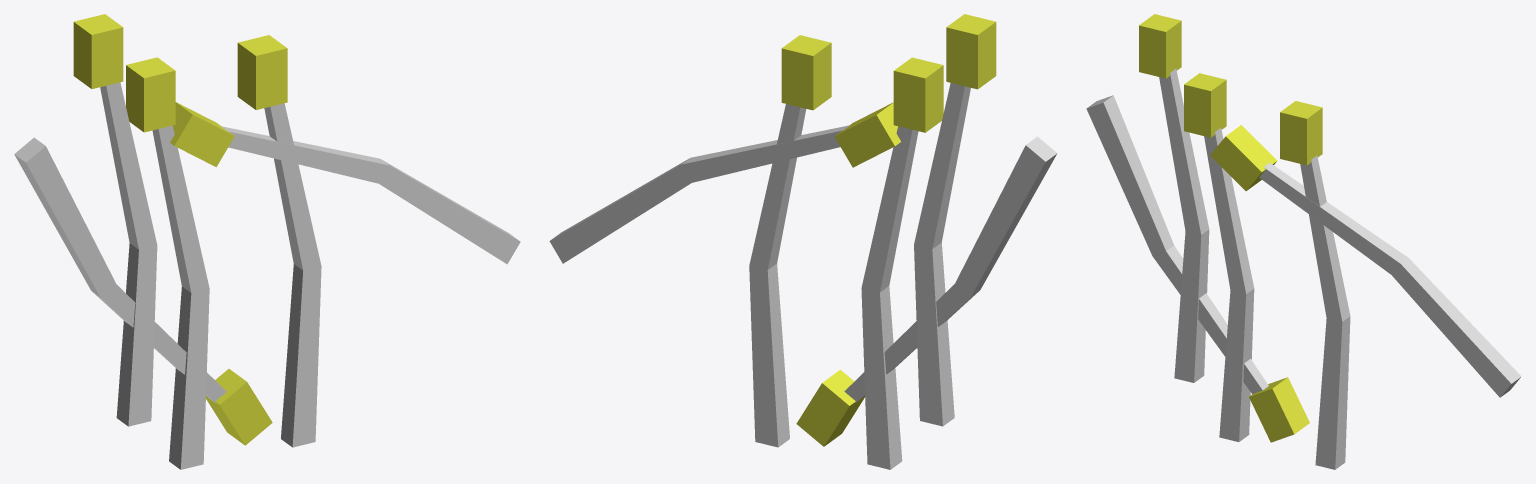
File: Beansprout.fbx
The picture shows the model from 3 angles, left to right: view 1: azimuth 30°, elevation 25°; view 2: azimuth 150°, elevation 25°; view 3: azimuth 330°, elevation 25°; orthographic projection. The views are drawn at different scales.
Visible parts, largest first — view 1: Beansprout; view 2: Beansprout; view 3: Beansprout.
Boxes of the visible parts, x1=… form: Beansprout: x1=14, y1=14, x2=520, y2=469; Beansprout: x1=549, y1=14, x2=1057, y2=469; Beansprout: x1=1086, y1=14, x2=1521, y2=469.
Size of the model in its own units: 108 by 96.72 by 6.89.
